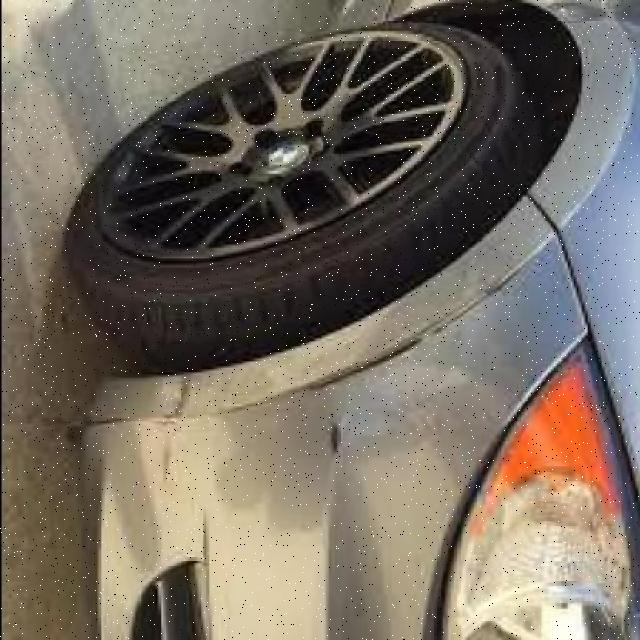damage: (287, 266, 519, 400), (317, 413, 351, 461)
